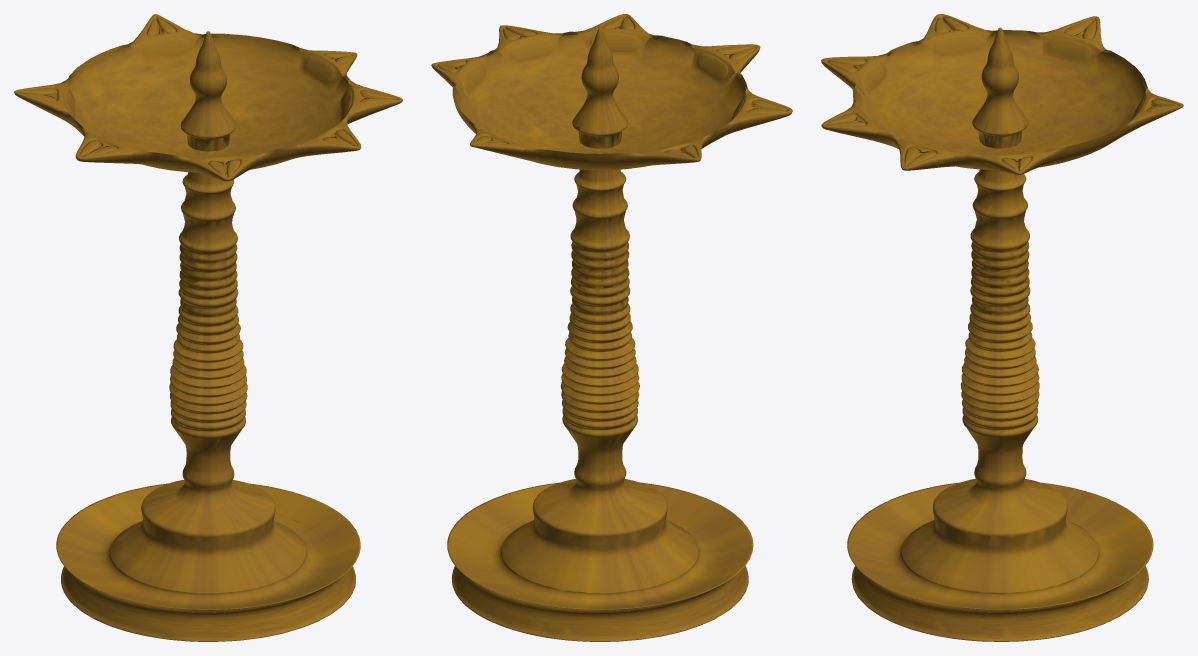
Rendered from samai.glb.
3 views of the same model, side by side, from view 1: azimuth 30°, elevation 25°; view 2: azimuth 150°, elevation 25°; view 3: azimuth 270°, elevation 25° (orthographic).
Visible parts, largest first — view 1: Cylinder, Sphere; view 2: Cylinder, Sphere; view 3: Cylinder, Sphere.
Boxes of the visible parts, <box> form: Cylinder: <box>56,31,360,641</box>; Sphere: <box>14,14,402,181</box>; Cylinder: <box>447,27,753,641</box>; Sphere: <box>431,14,792,170</box>; Cylinder: <box>847,27,1153,641</box>; Sphere: <box>821,14,1183,174</box>.
Bounding box in the file's own units: 2.45 × 4.04 × 2.39.
1 material, 1 textured.
